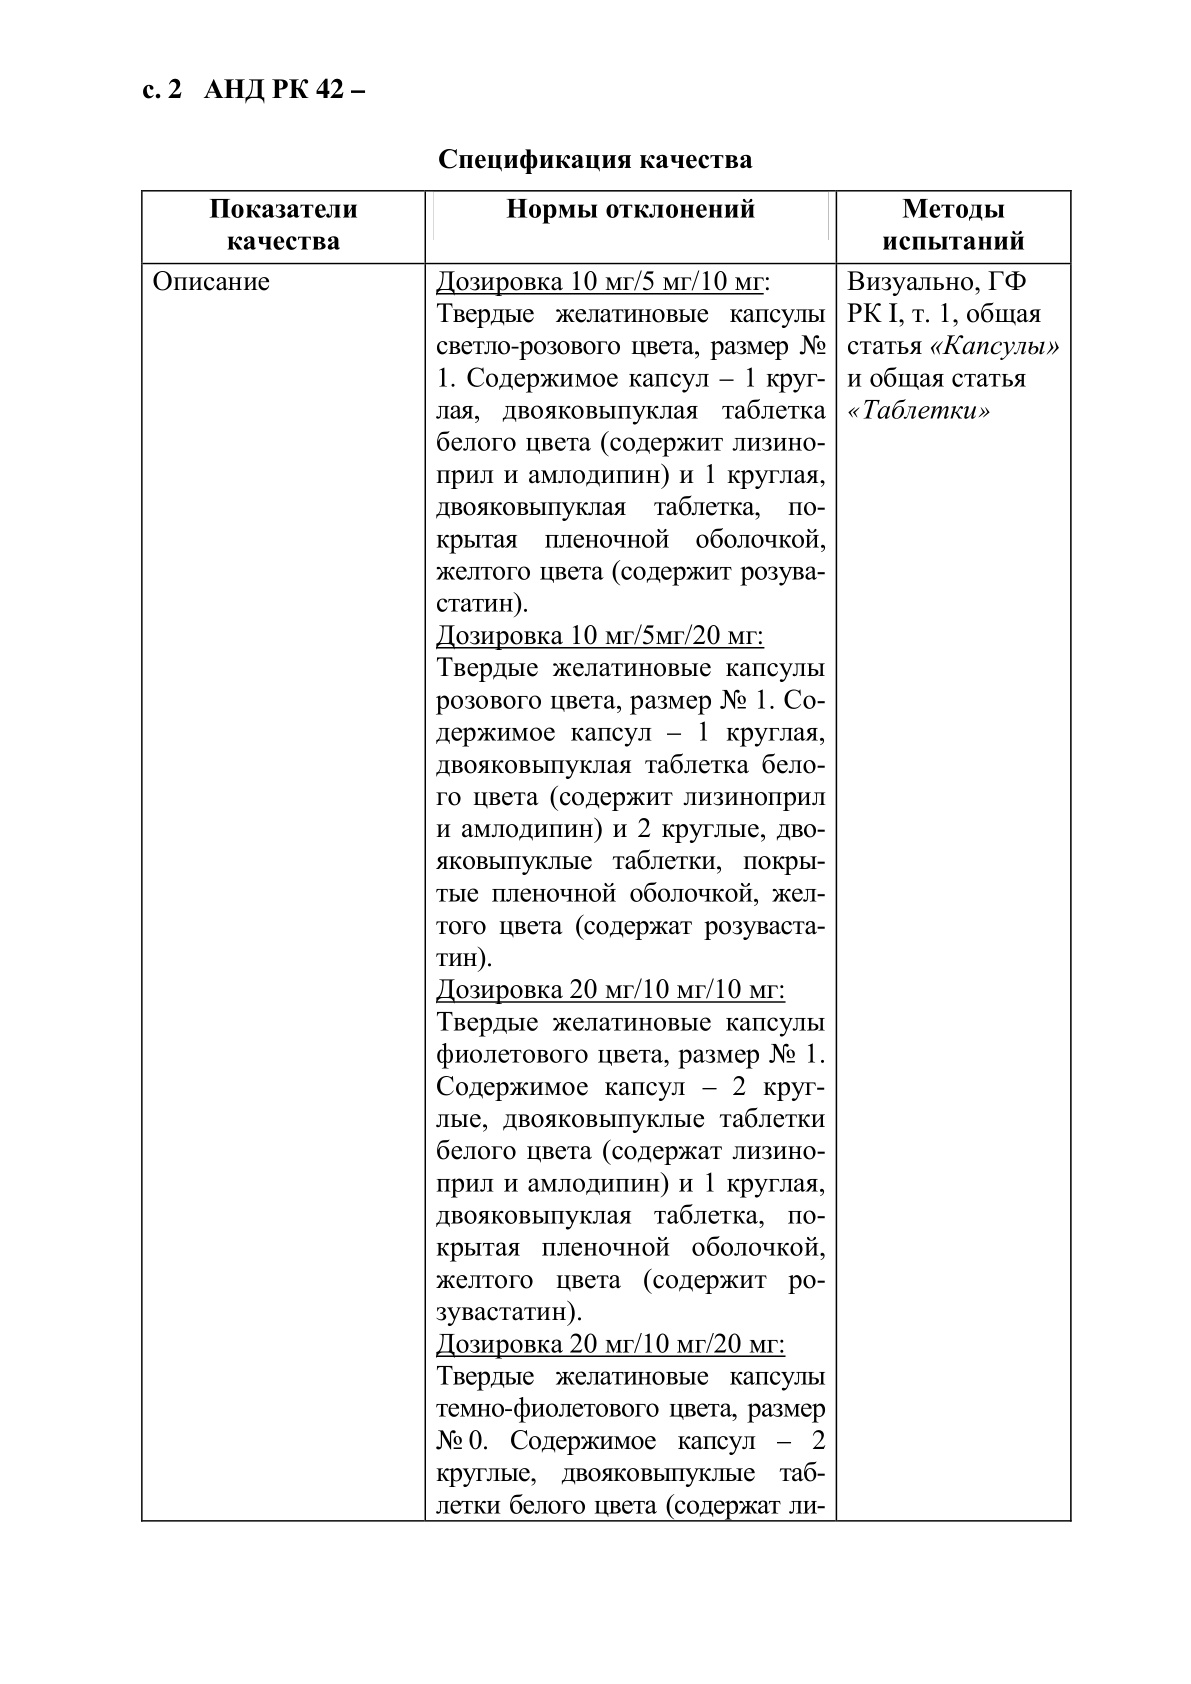full_lined: (140, 189, 1072, 1522)
